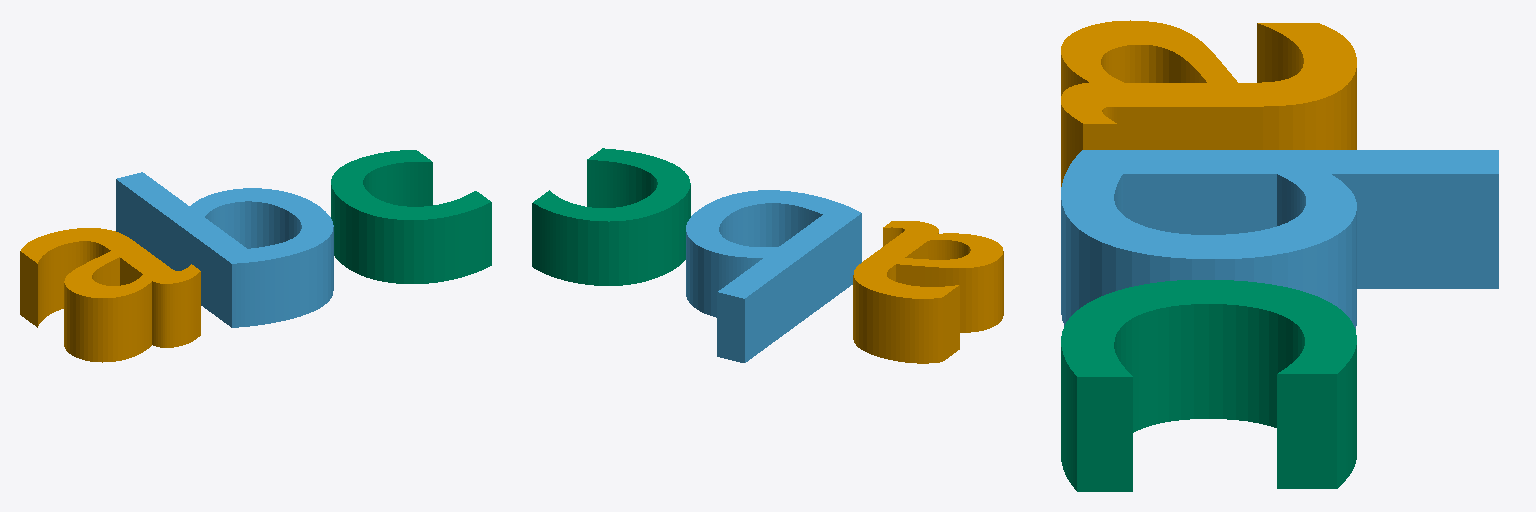
robot.urdf — abc:
<?xml version="1.0" ?>
<robot name="abc">
  <link name="a_link">
    <visual name="a_visual">
      <origin xyz="-0.5 0 0" rpy="0 0 0" />
      <geometry>
        <mesh filename="package://rviz_melodic_urdf_issue/a.dae" scale="1.0 1.0 1.0" />
      </geometry>
    </visual>
    <collision name="a_visual">
      <origin xyz="-0.5 0 0" rpy="0 0 0" />
      <geometry>
        <mesh filename="package://rviz_melodic_urdf_issue/a.dae" scale="1.0 1.0 1.0" />
      </geometry>
    </collision>
  </link>
  <joint name="a_b_joint" type="fixed">
    <parent link="a_link"/>
    <child link="b_link"/>
    <origin xyz="0 0 0" rpy="0 0 0" />
  </joint>
  <link name="b_link">
    <visual name="b_visual">
      <origin xyz="0 0 0" rpy="0 0 0" />
      <geometry>
        <mesh filename="package://rviz_melodic_urdf_issue/b.dae" scale="1.0 1.0 1.0" />
      </geometry>
    </visual>
    <collision name="b_visual">
      <origin xyz="0 0 0" rpy="0 0 0" />
      <geometry>
        <mesh filename="package://rviz_melodic_urdf_issue/b.dae" scale="1.0 1.0 1.0" />
      </geometry>
    </collision>
  </link>
  <joint name="b_c_joint" type="fixed">
    <parent link="b_link"/>
    <child link="c_link"/>
    <origin xyz="0 0 0" rpy="0 0 0" />
  </joint>
  <link name="c_link">
    <visual name="c_visual">
      <origin xyz="0.5 0 0" rpy="0 0 0" />
      <geometry>
        <mesh filename="package://rviz_melodic_urdf_issue/c.dae" scale="1.0 1.0 1.0" />
      </geometry>
    </visual>
    <collision name="c_visual">
      <origin xyz="0.5 0 0" rpy="0 0 0" />
      <geometry>
        <mesh filename="package://rviz_melodic_urdf_issue/c.dae" scale="1.0 1.0 1.0" />
      </geometry>
    </collision>
  </link>
</robot>

--- What the picture shows (computed from the rendered views, not written in the file) ---
3 views of the same robot in one strip: view 1: azimuth 30°, elevation 25°; view 2: azimuth 150°, elevation 25°; view 3: azimuth 270°, elevation 25° (orthographic).
Robot: abc — 3 links, 2 joints (2 fixed); root link a_link; default pose: all joints at 0.
Links seen in each view (by area): view 1: b_link, a_link, c_link; view 2: b_link, a_link, c_link; view 3: b_link, c_link, a_link.
Link boxes in pixels (box(x1,y1,x2,y2)): b_link: box(116, 172, 333, 327); a_link: box(20, 228, 200, 362); c_link: box(331, 150, 491, 283); b_link: box(686, 190, 861, 362); a_link: box(853, 221, 1003, 363); c_link: box(532, 148, 690, 285); b_link: box(1061, 150, 1498, 328); c_link: box(1061, 280, 1356, 491); a_link: box(1061, 20, 1356, 186).
Bounding box of the posed robot: 1.33 × 0.691 × 0.2 m (x, y, z).
Meshes: 3 distinct files referenced, 3 mesh visuals loaded (3 Collada DAE).